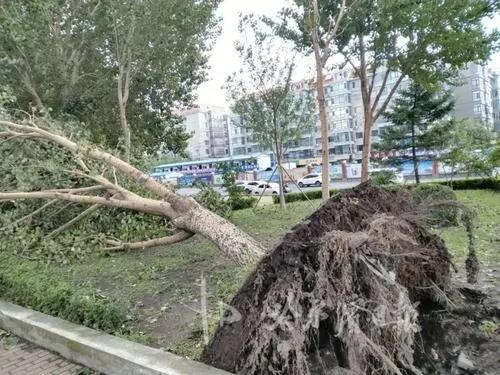Downstairs: (1, 94, 321, 322)
